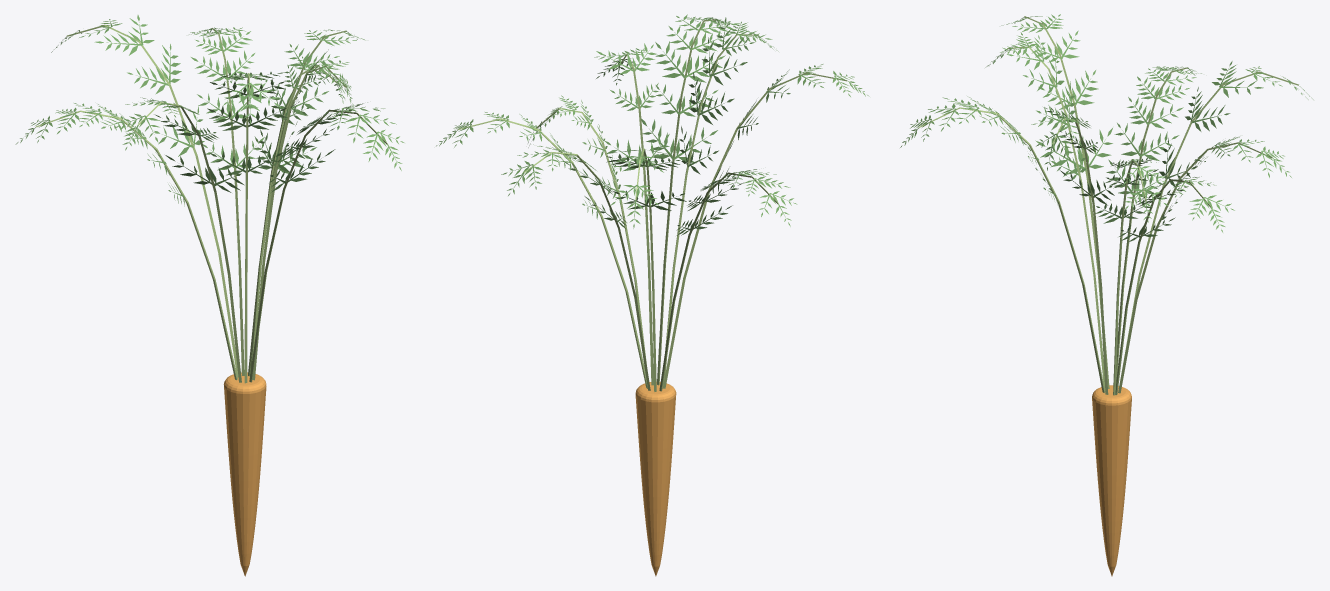
File: carrot_harvest_v06.glb
3 views of the same model, side by side, from view 1: azimuth 30°, elevation 25°; view 2: azimuth 150°, elevation 25°; view 3: azimuth 270°, elevation 25° (orthographic). The views are drawn at different scales.
Parts seen in each view (by area): view 1: leaves, petioles, root; view 2: leaves, petioles, root; view 3: leaves, petioles, root.
Boxes of the visible parts, x1,y1,x2,y2 form: leaves: (15, 15, 404, 206); petioles: (36, 24, 387, 383); root: (223, 372, 266, 576); leaves: (436, 14, 869, 235); petioles: (458, 19, 846, 391); root: (635, 382, 676, 576); leaves: (900, 14, 1313, 242); petioles: (918, 16, 1298, 395); root: (1092, 385, 1131, 576).
Bounding box in the file's own units: 0.3602 × 0.5276 × 0.387.
